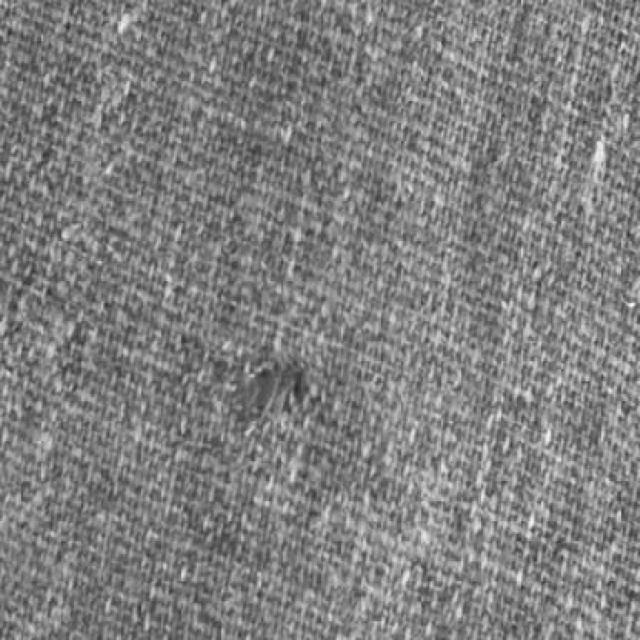seam: (140, 272, 458, 494)
